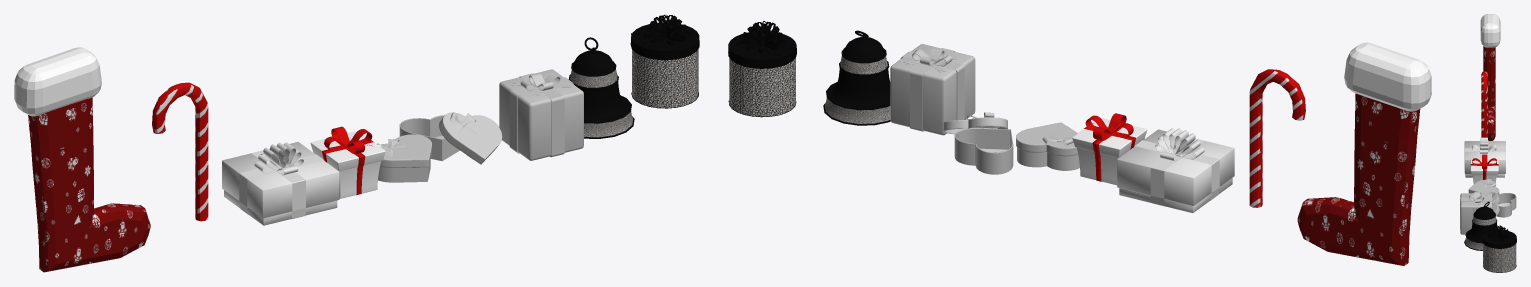
Rendered from gift.FBX.
3 views of the same model, side by side, from view 1: azimuth 30°, elevation 25°; view 2: azimuth 150°, elevation 25°; view 3: azimuth 270°, elevation 25° (orthographic). The views are drawn at different scales.
Parts seen in each view (by area): view 1: socks, present, Cylinder01, Object, Ring, ChamferBox02, candy_stick, Box04, gift_cap2, gift_cap1, gift_bottom2, gift_bottom1; view 2: socks, present, Cylinder01, Object, Ring, ChamferBox02, candy_stick, Box04, gift_bottom2, gift_cap1, gift_bottom1, gift_cap2; view 3: socks, Cylinder01, Ring, present, Object, ChamferBox02, candy_stick, gift_bottom2, Box04, gift_cap1, gift_cap2.
Boxes of the visible parts, x1,y1,x2,y2 form: socks: (14, 47, 150, 272); present: (499, 69, 583, 160); Cylinder01: (630, 14, 699, 108); Object: (222, 142, 339, 225); Ring: (568, 37, 634, 138); ChamferBox02: (310, 126, 385, 198); candy_stick: (152, 82, 208, 221); Box04: (239, 142, 324, 219); gift_cap2: (439, 112, 502, 164); gift_cap1: (376, 134, 431, 167); gift_bottom2: (399, 115, 459, 161); gift_bottom1: (378, 160, 430, 182); socks: (1297, 42, 1431, 265); present: (890, 44, 975, 135); Cylinder01: (728, 21, 796, 117); Object: (1117, 129, 1234, 212); Ring: (823, 30, 890, 125); ChamferBox02: (1072, 113, 1147, 185); candy_stick: (1249, 69, 1305, 207); Box04: (1134, 128, 1219, 206); gift_bottom2: (954, 128, 1013, 174); gift_cap1: (1016, 122, 1077, 156); gift_bottom1: (1017, 148, 1079, 170); gift_cap2: (943, 112, 1007, 134); socks: (1480, 14, 1500, 140); Cylinder01: (1482, 225, 1516, 272); Ring: (1464, 201, 1497, 250); present: (1460, 192, 1492, 234); Object: (1464, 141, 1505, 177); ChamferBox02: (1470, 154, 1498, 184); candy_stick: (1481, 71, 1487, 137); gift_bottom2: (1497, 193, 1516, 217); Box04: (1464, 137, 1505, 159); gift_cap1: (1468, 179, 1499, 194); gift_cap2: (1489, 192, 1499, 216).
Size of the model in its own units: 320 by 95.47 by 46.11.
